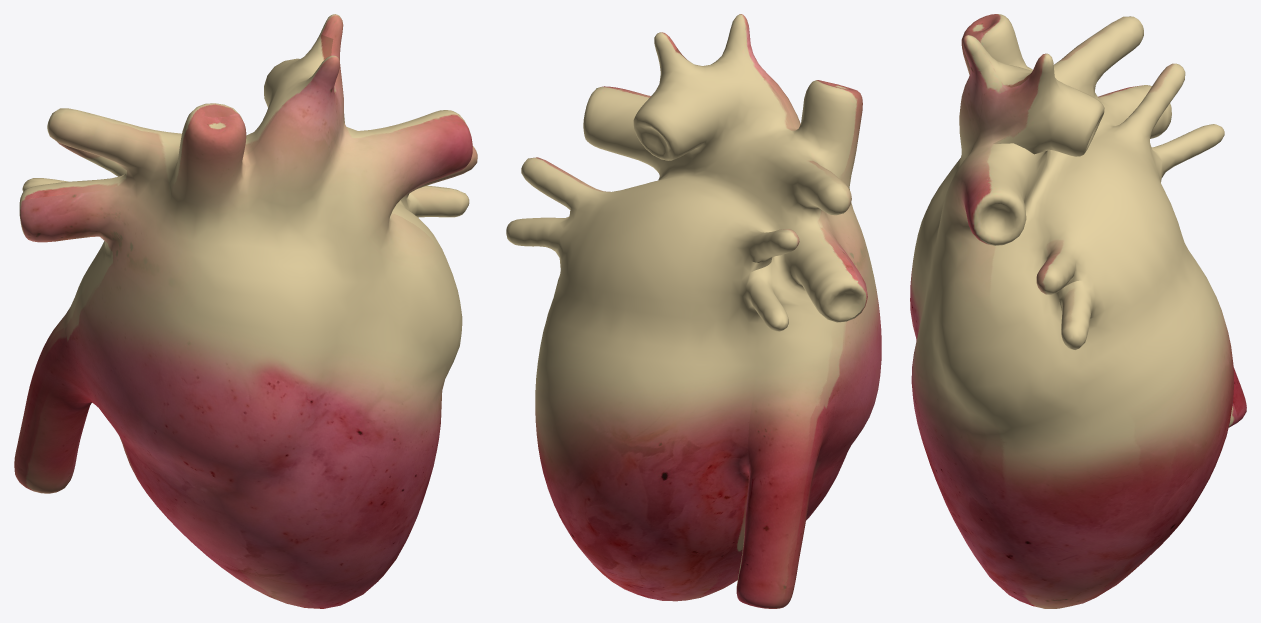
Rendered from cora.gltf.
3 views of the same model, side by side, from view 1: azimuth 30°, elevation 25°; view 2: azimuth 150°, elevation 25°; view 3: azimuth 270°, elevation 25° (orthographic). The views are drawn at different scales.
Parts seen in each view (by area): view 1: Default; view 2: Default; view 3: Default.
Boxes of the visible parts, bbox=[...] form: Default: bbox=[14, 14, 477, 608]; Default: bbox=[506, 14, 881, 608]; Default: bbox=[910, 14, 1246, 608].
Size of the model in its own units: 0.1838 by 0.2491 by 0.1375.
Materials: 1 (1 with a texture image).
